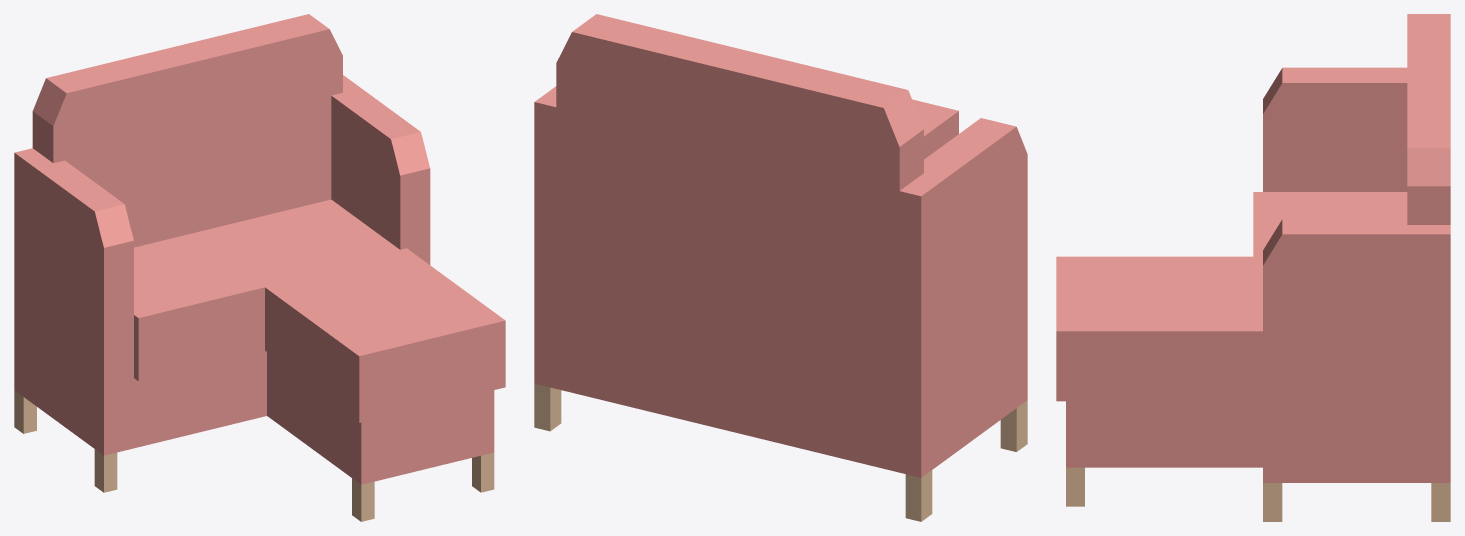
The model's file is kn-lounge-sofa-long.glb.
The picture shows the model from 3 angles, left to right: view 1: azimuth 30°, elevation 25°; view 2: azimuth 150°, elevation 25°; view 3: azimuth 270°, elevation 25°; orthographic projection. The views are drawn at different scales.
Visible parts, largest first — view 1: loungeSofaLong(Clone); view 2: loungeSofaLong(Clone); view 3: loungeSofaLong(Clone).
Part boxes in pixels (<box>): loungeSofaLong(Clone): <box>14,14,505,521</box>; loungeSofaLong(Clone): <box>534,14,1027,521</box>; loungeSofaLong(Clone): <box>1056,14,1450,521</box>.
Bounding box in the file's own units: 1 × 1 × 1.
